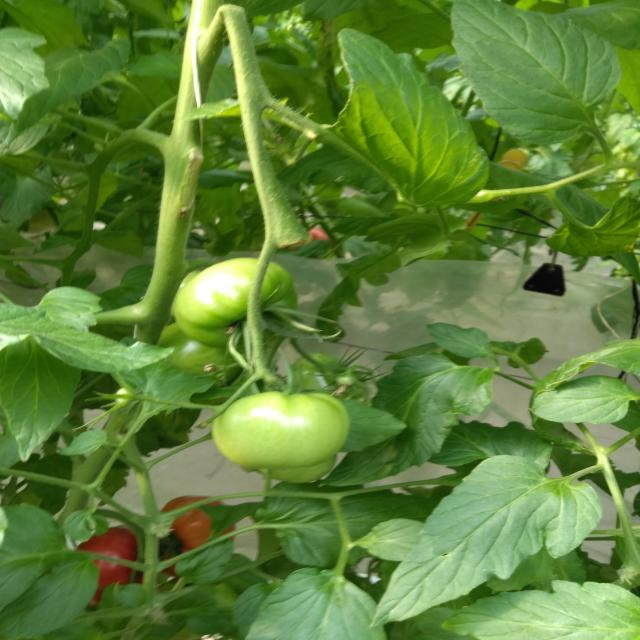yesil: (156, 240, 357, 469)
